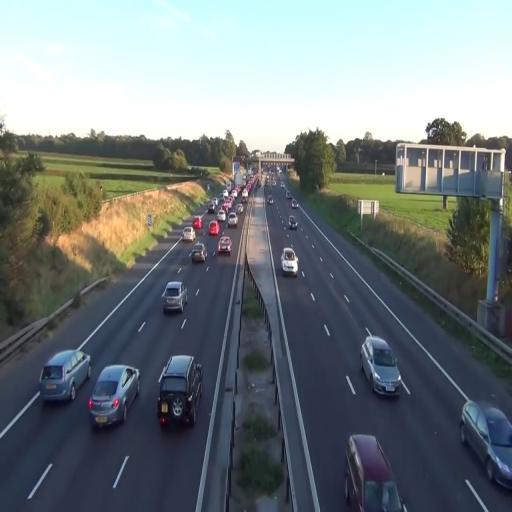vehicle: (344, 434, 407, 512), (460, 400, 512, 492), (156, 353, 204, 428), (88, 365, 140, 429), (39, 348, 91, 402), (361, 333, 400, 397), (162, 280, 186, 314), (281, 246, 299, 275), (191, 244, 206, 265), (218, 236, 232, 255), (182, 225, 196, 244), (208, 219, 220, 238), (227, 211, 238, 226)
